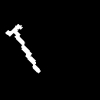half_double_crochet: (6, 24, 39, 72)
